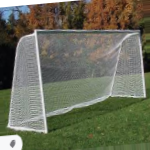goals: (5, 26, 149, 136)
